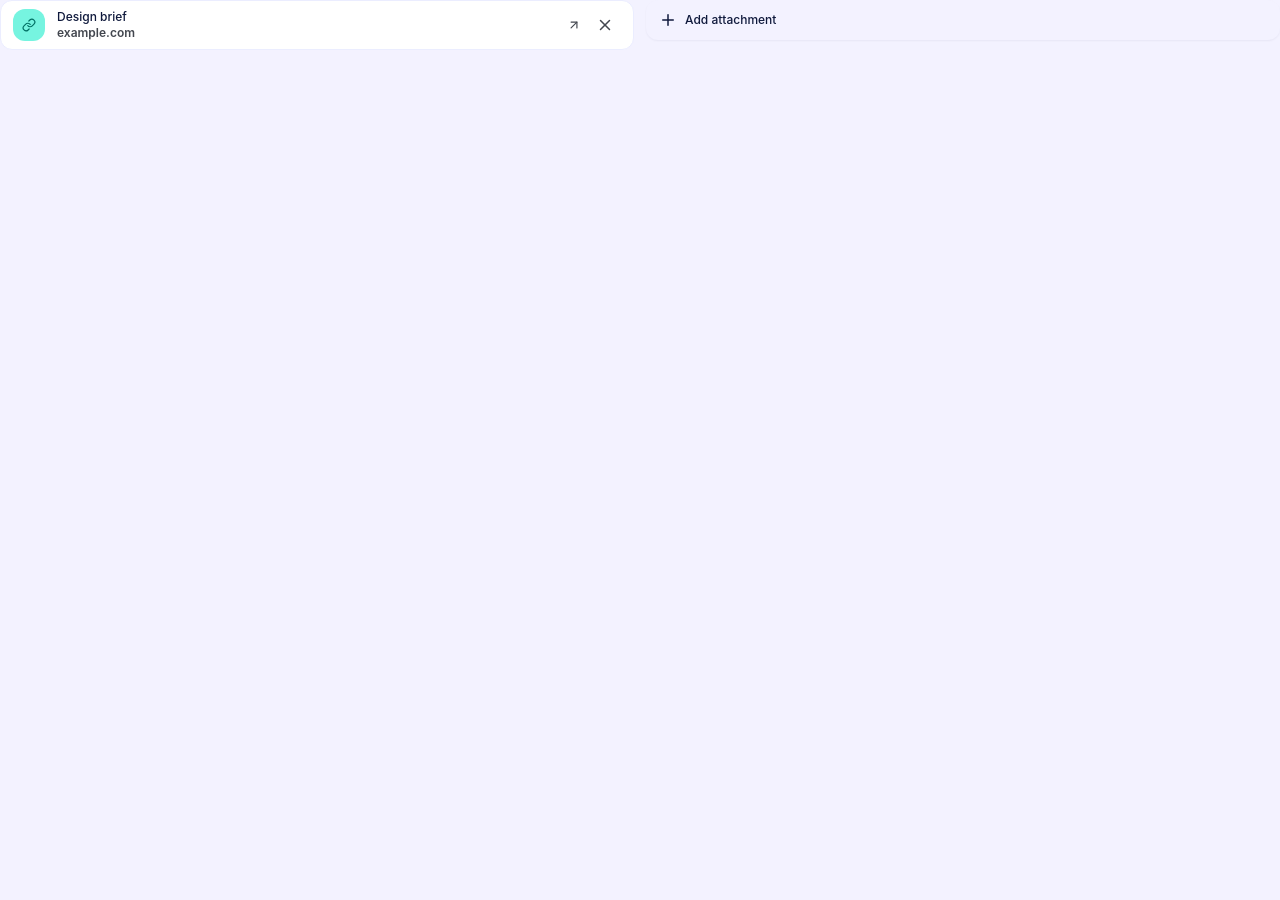
Scenario: AttachmentList › opens the Remove attachment modal with the name, and sends nothing until confirmed
The width and height of the screenshot is (1280, 900).
Later steps or results of the test are not shown.
Click the button named "Remove Design brief" at (605,25), box [589,9,621,41]
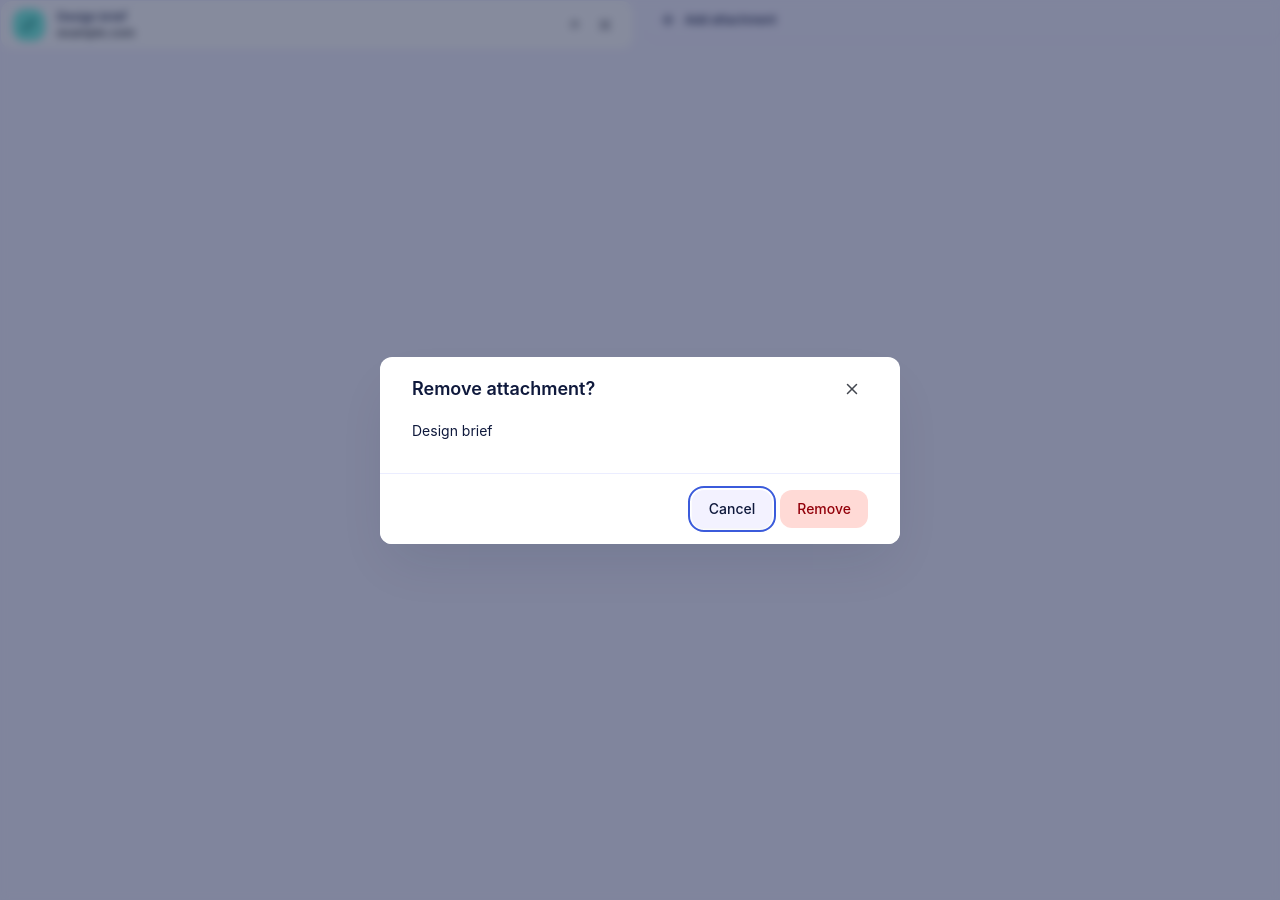
expect the text "Design brief" is shown: met, box [412,422,493,438]
